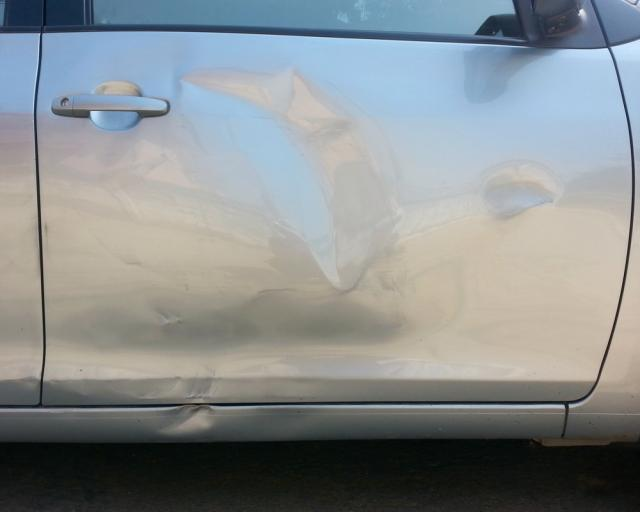dent: (177, 70, 380, 286), (478, 161, 564, 218), (145, 361, 219, 402), (156, 404, 217, 432)
